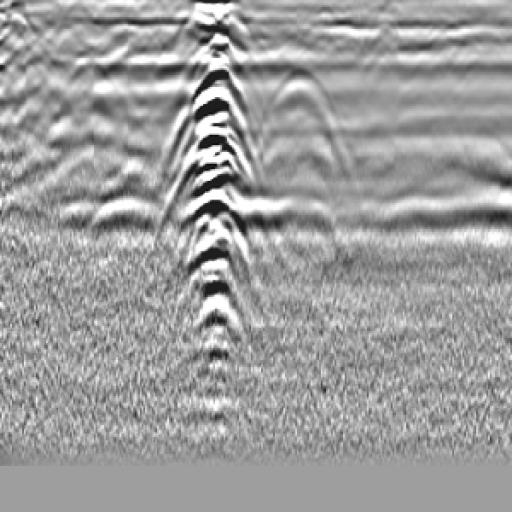metalic: (174, 34, 263, 381)
nonmetalic: (247, 71, 352, 190)
